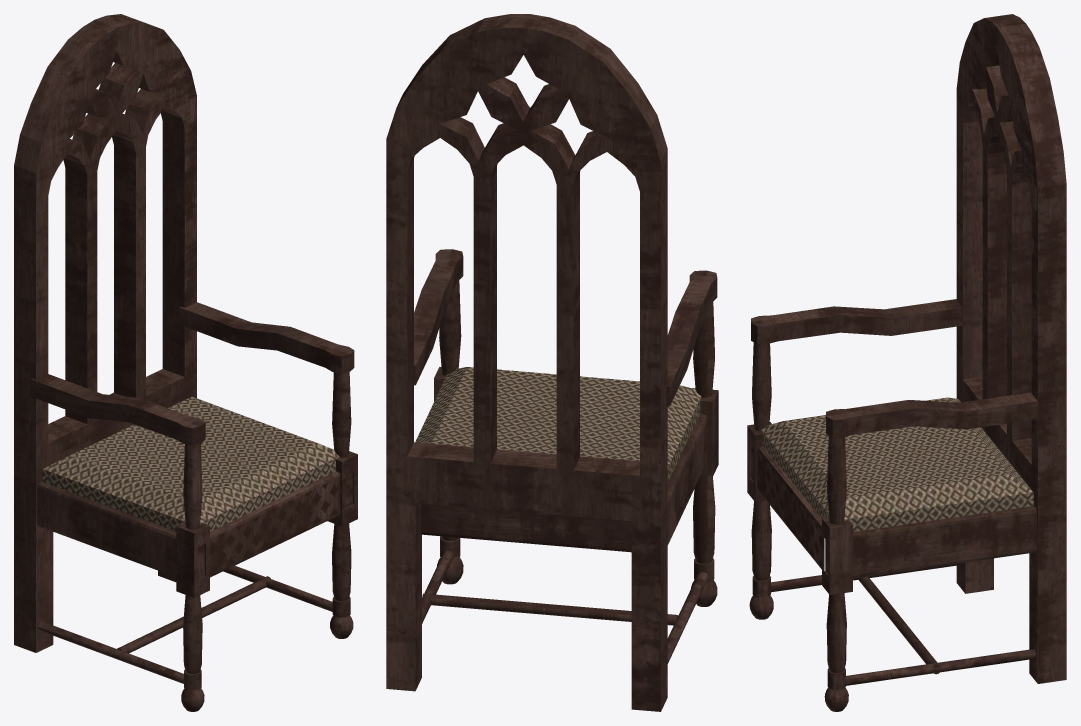
The model's file is Furn_Chair_2.glb.
The picture shows the model from 3 angles, left to right: view 1: azimuth 30°, elevation 25°; view 2: azimuth 150°, elevation 25°; view 3: azimuth 270°, elevation 25°; orthographic projection. The views are drawn at different scales.
Visible parts, largest first — view 1: Furn_Chair_2; view 2: Furn_Chair_2; view 3: Furn_Chair_2.
Boxes of the visible parts, x1=… form: Furn_Chair_2: x1=14, y1=14, x2=357, y2=711; Furn_Chair_2: x1=386, y1=14, x2=718, y2=711; Furn_Chair_2: x1=747, y1=14, x2=1066, y2=711.
Size of the model in its own units: 0.5598 by 1.17 by 0.5578.
1 material, 1 textured.
